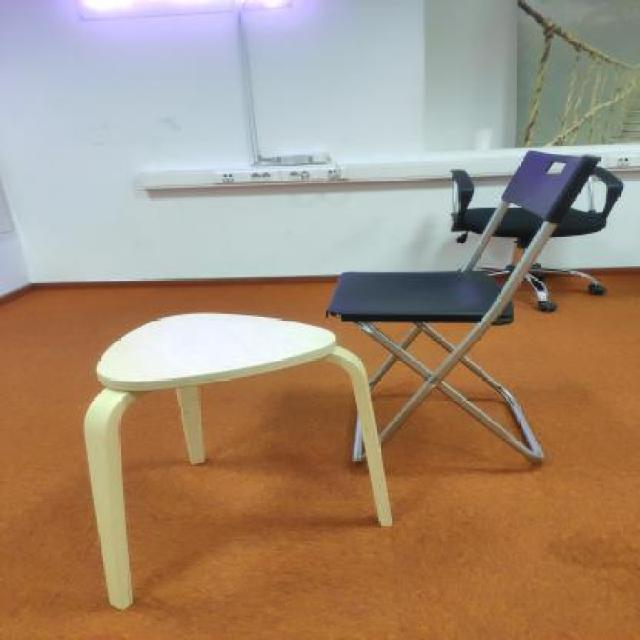chair: (322, 146, 604, 472)
